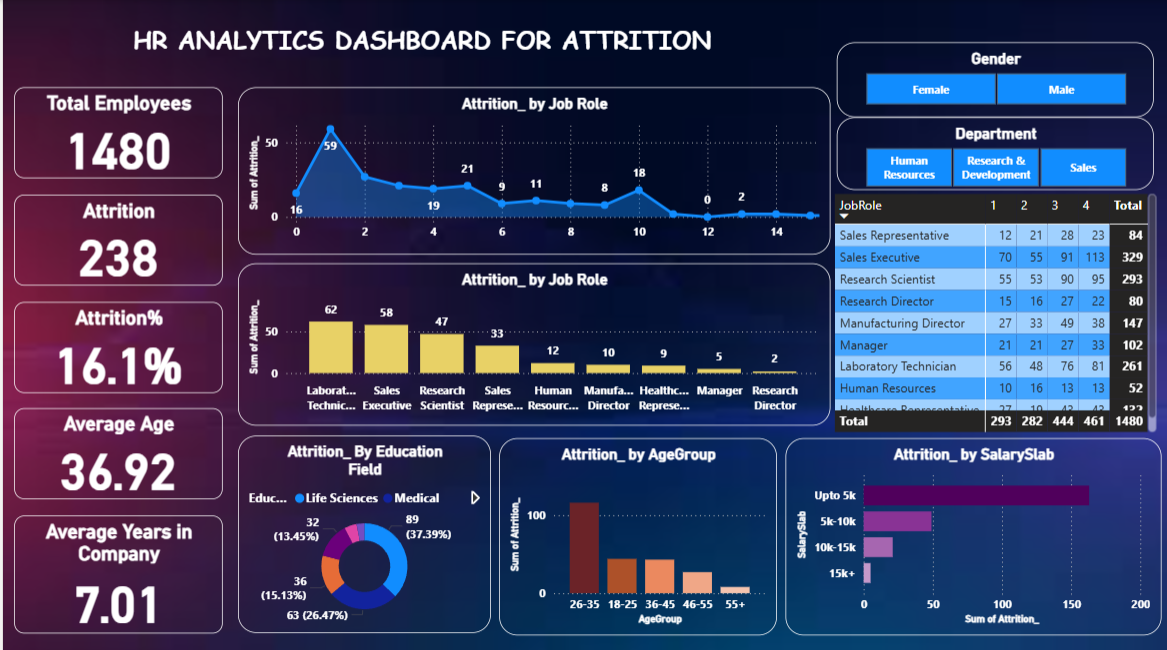

What the dashboard file says about the page in this screenshot:
{"tool":"powerbi","page":{"name":"Page 1","canvas":[1280,720],"ordinal":0},"visuals":[{"type":"card","title":"Total Employees","fields":{"Values":["Sum(HR_Analytics.EmployeeCount)"]},"box":[12.9,96.4,228.8,100.2],"z":0},{"type":"card","title":"Attrition","fields":{"Values":["Sum(HR_Analytics.Attrition_)"]},"box":[12.9,214,228.8,100.2],"z":1000},{"type":"card","title":"Attrition%","fields":{"Values":["HR_Analytics.Attrition Percentage"]},"box":[12.9,331.6,228.8,100.2],"z":2000},{"type":"card","title":"Average Age","fields":{"Values":["Avg(HR_Analytics.Age)"]},"box":[12.9,449.2,228.8,100.2],"z":3000},{"type":"card","title":"Average Years in Company","fields":{"Values":["Avg(HR_Analytics.YearsAtCompany)"]},"box":[12.9,566.7,228.8,129.8],"z":4000},{"type":"donutChart","title":"Attrition_ By Education Field","fields":{"Y":["Sum(HR_Analytics.Attrition_)"],"Category":["HR_Analytics.EducationField"]},"box":[258.3,479.4,277.6,217.2],"z":5000},{"type":"columnChart","title":"Attrition_ by AgeGroup","fields":{"Category":["HR_Analytics.AgeGroup"],"Y":["Sum(HR_Analytics.Attrition_)"]},"box":[544.9,481.9,304.6,217.2],"z":5001},{"type":"barChart","title":"Attrition_ by SalarySlab","fields":{"Y":["Sum(HR_Analytics.Attrition_)"],"Category":["HR_Analytics.SalarySlab"]},"box":[858.5,481.9,412.5,217.2],"z":5002},{"type":"columnChart","title":"Attrition_ by Job Role","fields":{"Y":["Sum(HR_Analytics.Attrition_)"],"Category":["HR_Analytics.JobRole"]},"box":[258.3,289.2,650.3,178.6],"z":5003},{"type":"areaChart","title":"Attrition_ by Job Role","fields":{"Y":["Sum(HR_Analytics.Attrition_)"],"Category":["HR_Analytics.YearsAtCompany"]},"box":[258.3,96.4,650.3,183.8],"z":5004},{"type":"pivotTable","fields":{"Rows":["HR_Analytics.JobRole"],"Columns":["HR_Analytics.JobSatisfaction"],"Values":["Sum(HR_Analytics.EmployeeCount)"]},"box":[908.6,208.2,362.4,271.2],"z":5005},{"type":"slicer","title":"Gender","fields":{"Values":["HR_Analytics.Gender"]},"box":[915,46.3,348.3,82.2],"z":5006},{"type":"slicer","title":"Department","fields":{"Values":["HR_Analytics.Department"]},"box":[915,128.5,348.3,79.7],"z":5007},{"type":"textbox","box":[12.9,46.3,895.7,41.1],"z":5008}]}

Visuals, with their boxes in screenshot pixels (x1, y1, x2, y2), scaled from the page's 1280x720 canvas onto the 1167x650 screenshot:
"Total Employees" card: <box>12,87,220,177</box>
"Attrition" card: <box>12,193,220,284</box>
"Attrition%" card: <box>12,299,220,390</box>
"Average Age" card: <box>12,406,220,496</box>
"Average Years in Company" card: <box>12,512,220,629</box>
"Attrition_ By Education Field" donutChart: <box>235,433,489,629</box>
"Attrition_ by AgeGroup" columnChart: <box>497,435,775,631</box>
"Attrition_ by SalarySlab" barChart: <box>783,435,1159,631</box>
"Attrition_ by Job Role" columnChart: <box>235,261,828,422</box>
"Attrition_ by Job Role" areaChart: <box>235,87,828,253</box>
pivotTable - HR_Analytics.JobRole x HR_Analytics.JobSatisfaction: <box>828,188,1159,433</box>
"Gender" slicer: <box>834,42,1152,116</box>
"Department" slicer: <box>834,116,1152,188</box>
textbox: <box>12,42,828,79</box>
